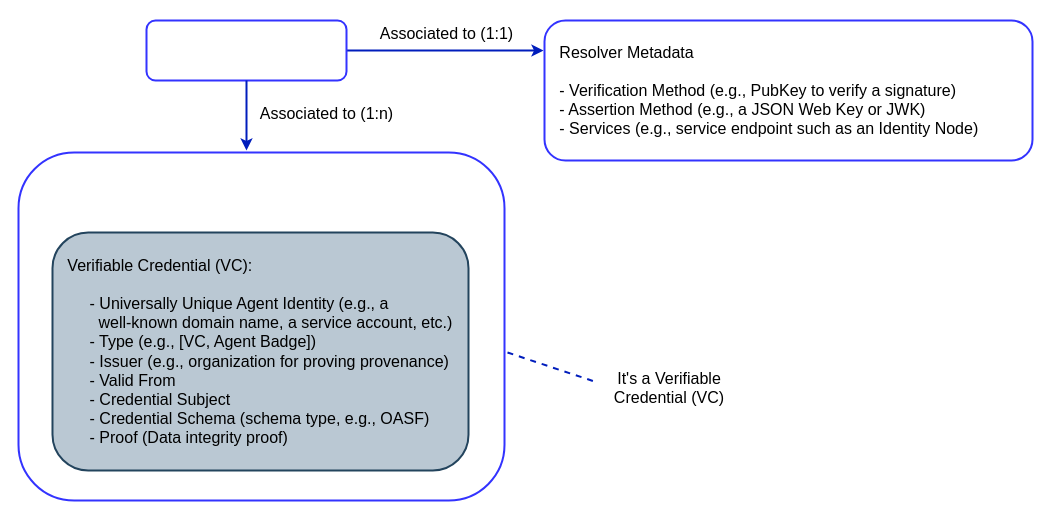
This 1050x518 diagram has some shape labels left out. Here are the shapes that lost their labels. From the top down, the box of each, then its label:
(145, 19, 347, 81): Universally Unique Agent ID
(17, 151, 505, 501): Agent Badge with envelope (e.g., a JOSE envelop)
